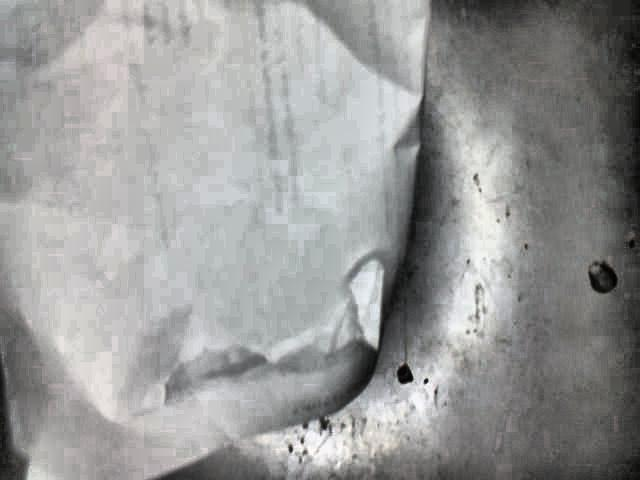Paper: (1, 0, 430, 479)
